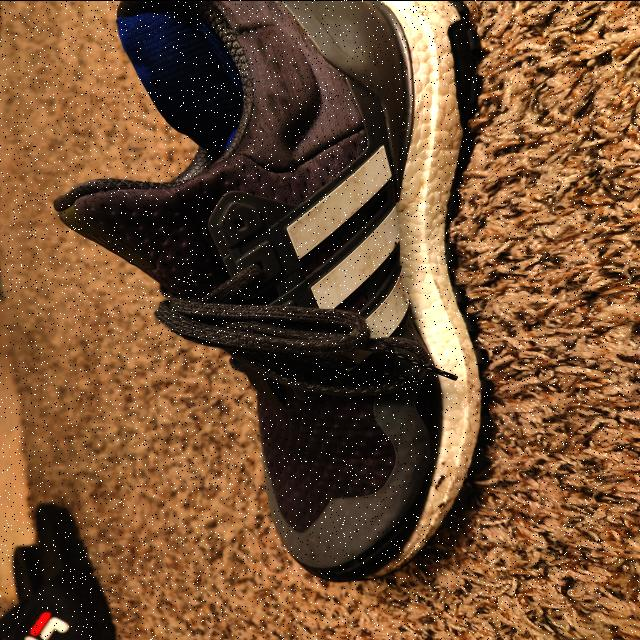black shoes: (53, 0, 507, 579)
